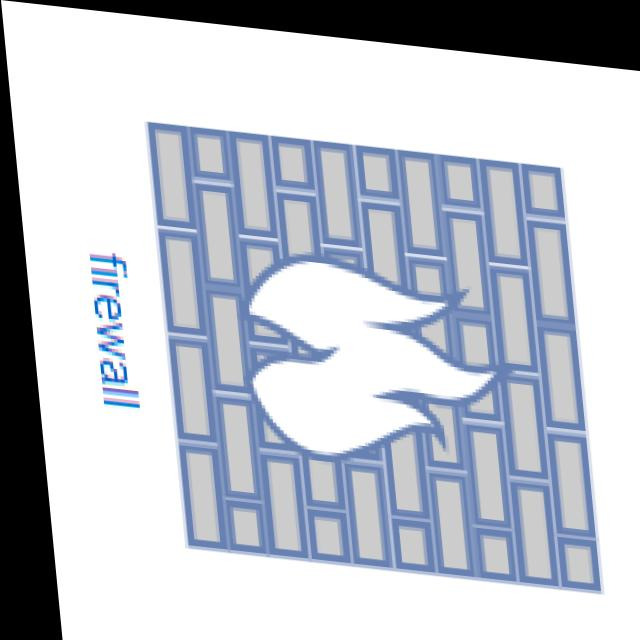Firewall: (105, 44, 622, 640)
